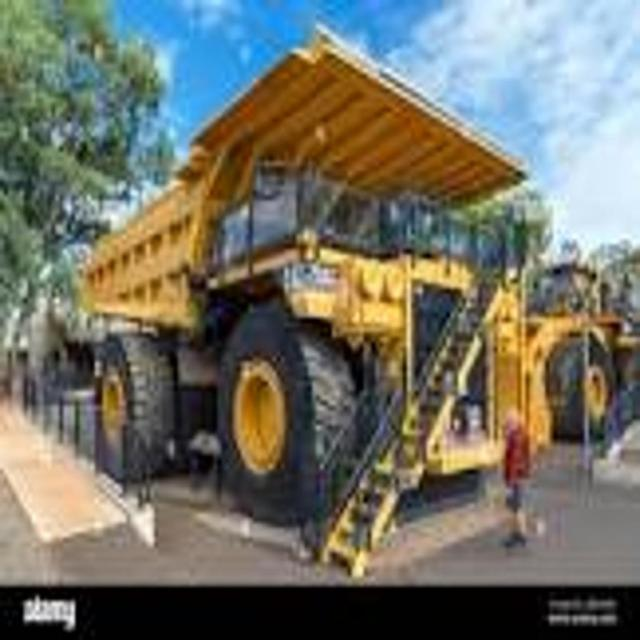dump_truck: (78, 18, 540, 578)
